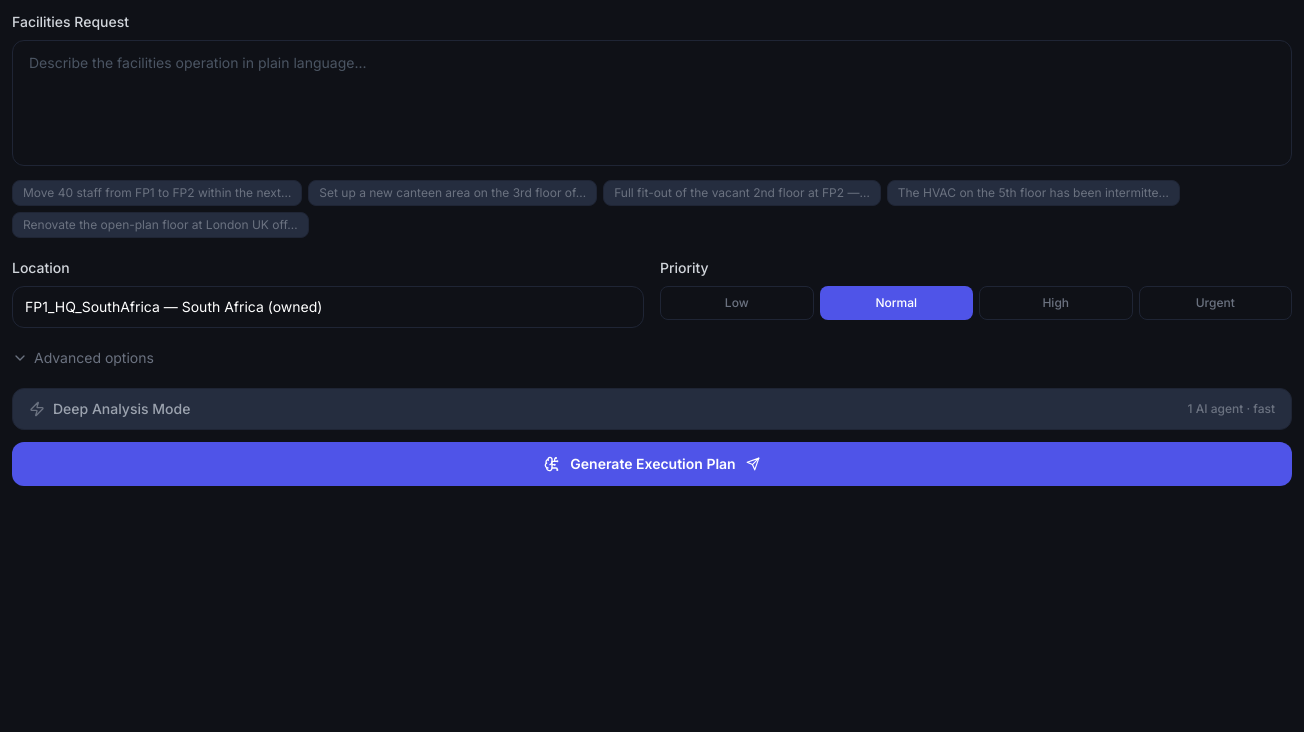
RequestForm › shows a validation error when request text is too short
Type "too short" into the text box labelled "Facilities Request" at [652, 103], box [12,40,1292,166]
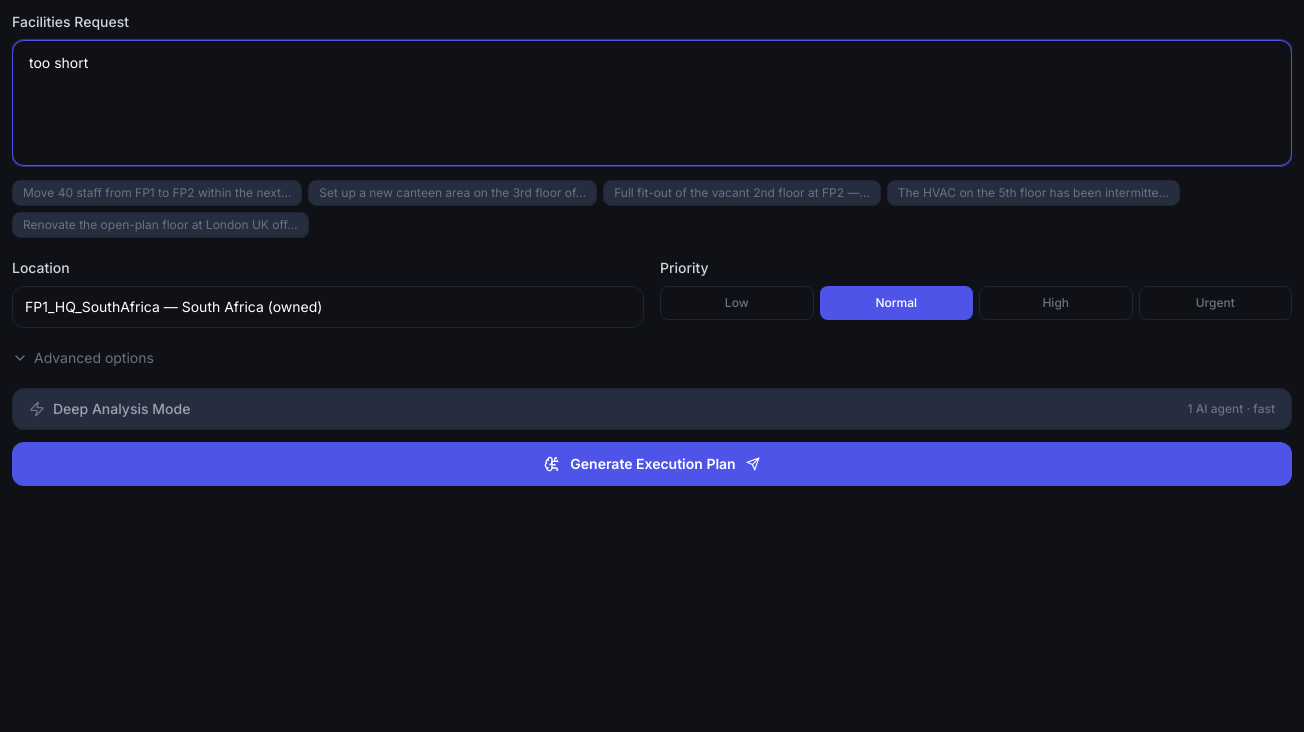
Click the submit button at [652, 464], box [12,442,1292,486]
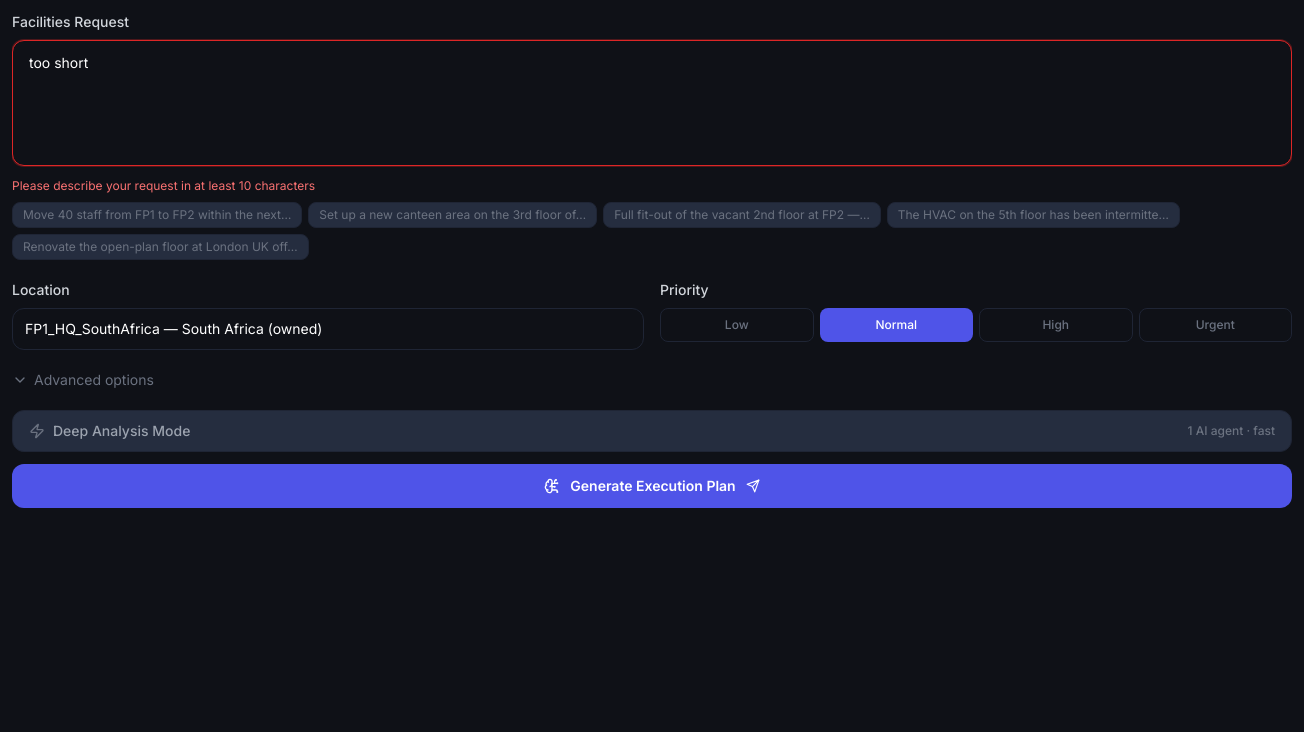
Check: the text "Please describe your request in at least 10 characters" is shown, box [12,178,315,193]
